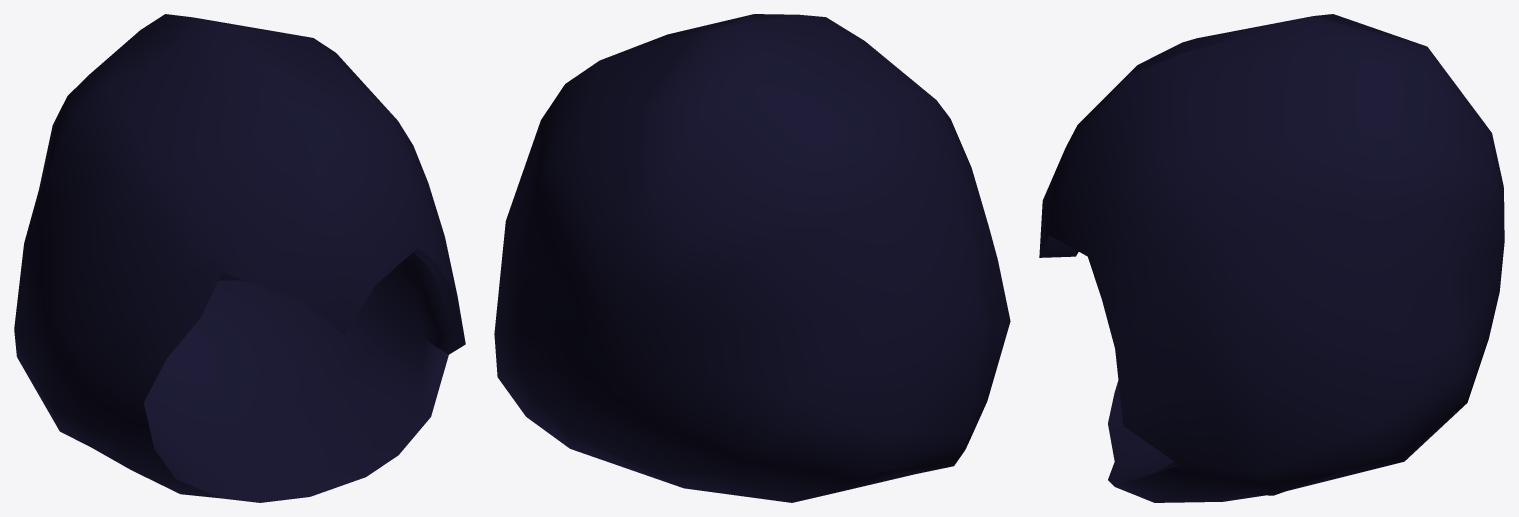
Rendered from skeleton_archer_skull_hood.obj.
3 renders of one model, left to right at view 1: azimuth 30°, elevation 25°; view 2: azimuth 150°, elevation 25°; view 3: azimuth 270°, elevation 25°, orthographic. The views are drawn at different scales.
Visible parts, largest first — view 1: character_skeleton_archer_hood; view 2: character_skeleton_archer_hood; view 3: character_skeleton_archer_hood.
Part boxes in pixels (<box>): character_skeleton_archer_hood: <box>14,14,465,502</box>; character_skeleton_archer_hood: <box>494,14,1010,502</box>; character_skeleton_archer_hood: <box>1039,14,1504,502</box>.
Size of the model in its own units: 1.12 by 1.15 by 1.08.
